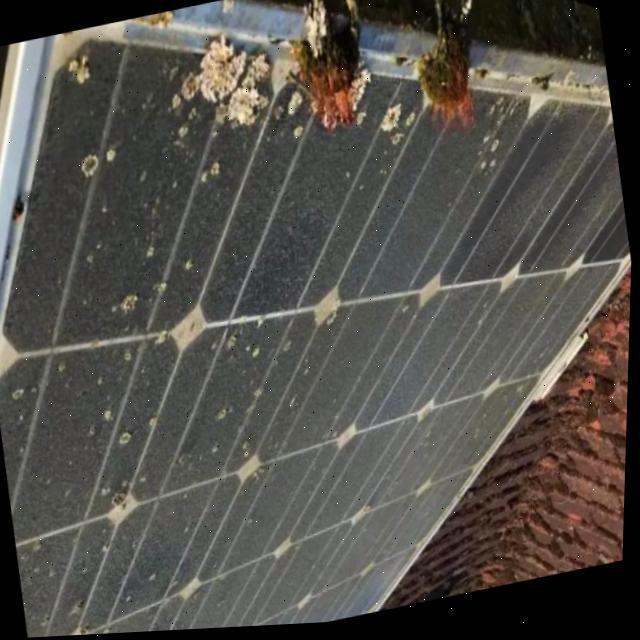Anomaly Solar Panel: (0, 32, 633, 638)
Surface Contaminant: (0, 29, 633, 638)
